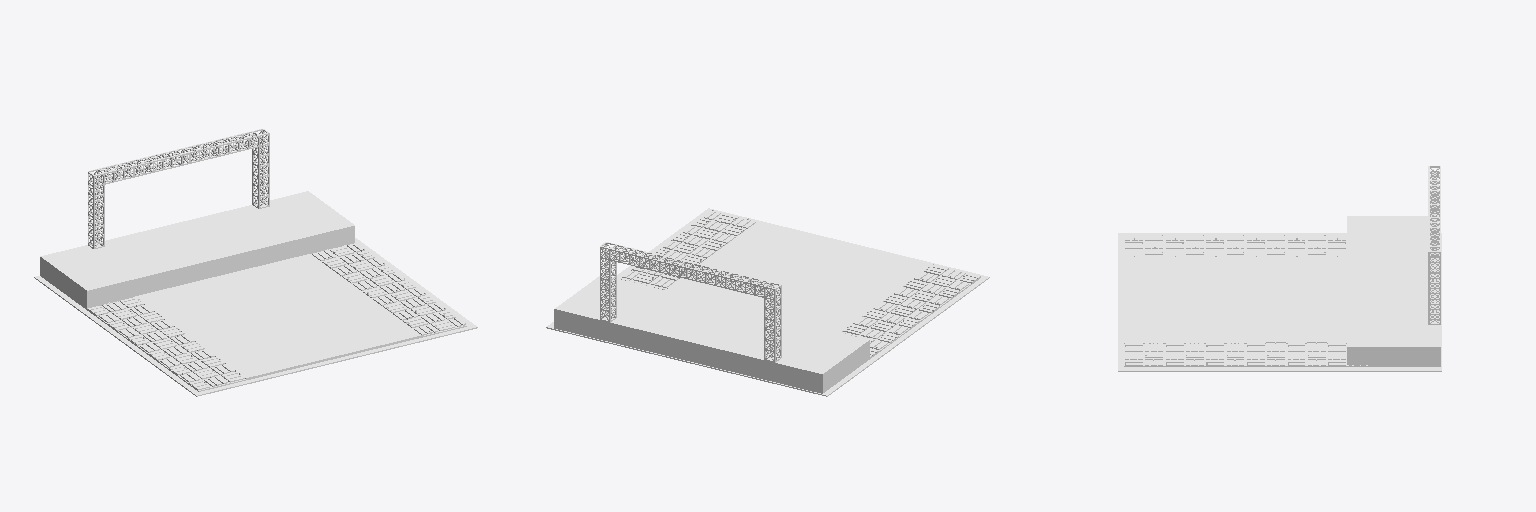
Rendered from Bar1-11.obj.
3 renders of one model, left to right at view 1: azimuth 30°, elevation 25°; view 2: azimuth 150°, elevation 25°; view 3: azimuth 270°, elevation 25°, orthographic.
Parts seen in each view (by area): view 1: object 1; view 2: object 1; view 3: object 1.
Part boxes in pixels (x1,y1,x2,y2): object 1: (34,129,477,396); object 1: (546,208,989,396); object 1: (1118,166,1441,371).
Size of the model in its own units: 25.6 by 8.2 by 25.6.